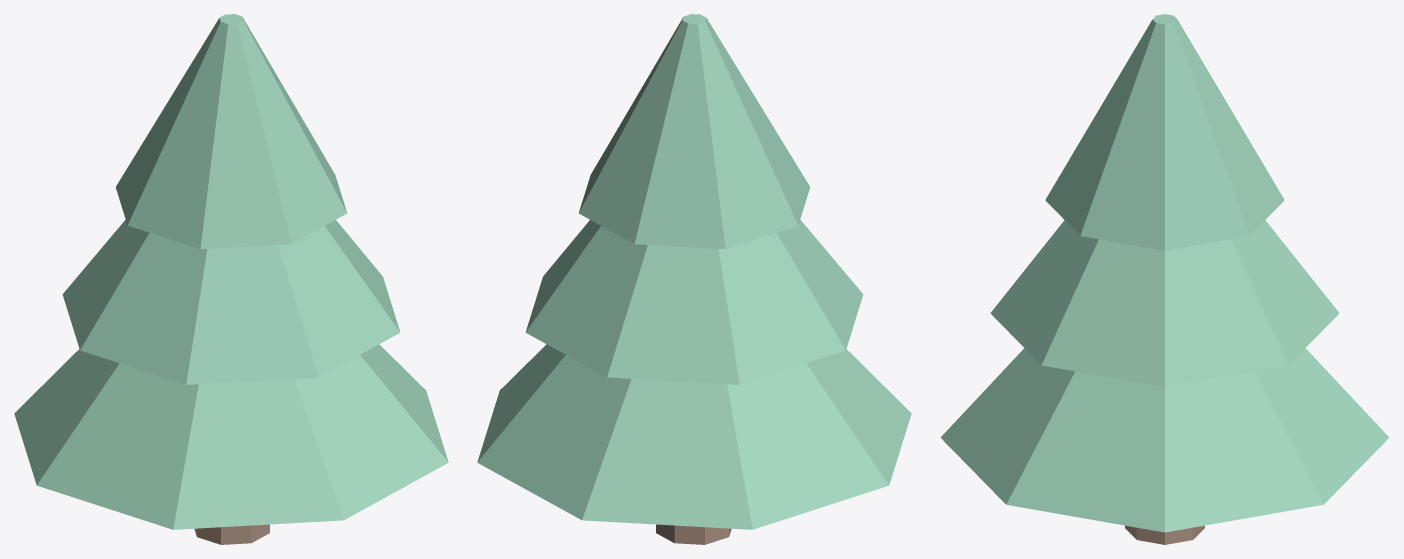
File: jehlicnan.glb
The picture shows the model from 3 angles, left to right: view 1: azimuth 30°, elevation 25°; view 2: azimuth 150°, elevation 25°; view 3: azimuth 270°, elevation 25°; orthographic projection.
Visible parts, largest first — view 1: jehlicnan; view 2: jehlicnan; view 3: jehlicnan.
Part boxes in pixels (x1=…): jehlicnan: x1=14, y1=14, x2=448, y2=544; jehlicnan: x1=477, y1=14, x2=911, y2=544; jehlicnan: x1=940, y1=14, x2=1389, y2=544.
Size of the model in its own units: 1.8 by 2.25 by 1.8.
